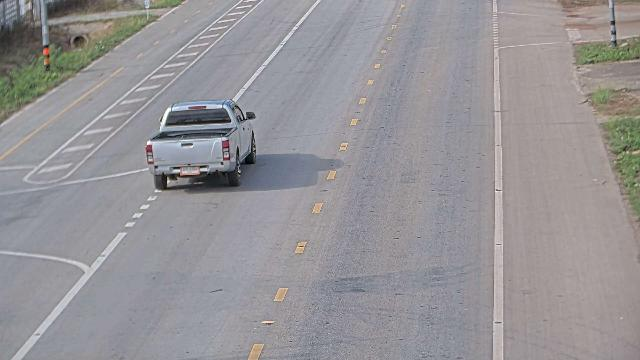pickup-truck: (144, 98, 257, 190)
